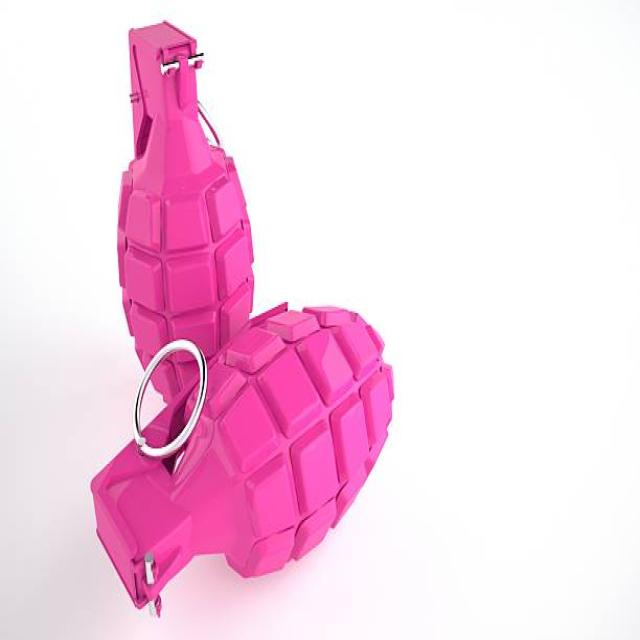grenade: (85, 293, 399, 619)
